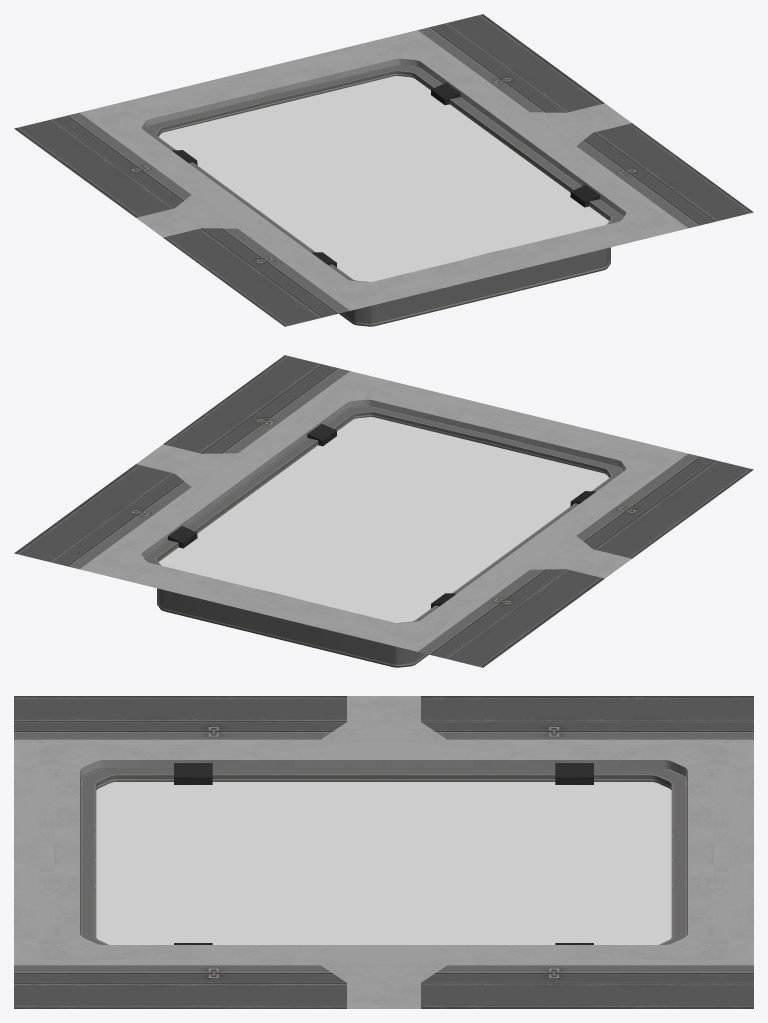
Rendered from platform_window_wide.gltf.
3 views of the same model, one above another, from view 1: azimuth 30°, elevation 25°; view 2: azimuth 150°, elevation 25°; view 3: azimuth 270°, elevation 25° (orthographic). The views are drawn at different scales.
Parts seen in each view (by area): view 1: Platform_Window_Wide; view 2: Platform_Window_Wide; view 3: Platform_Window_Wide.
Part boxes in pixels (<box>): Platform_Window_Wide: <box>14,14,753,326</box>; Platform_Window_Wide: <box>14,355,753,667</box>; Platform_Window_Wide: <box>14,696,753,1008</box>.
Bounding box in the file's own units: 4 × 0.4133 × 4.
Materials: 4 (3 with a texture image).
